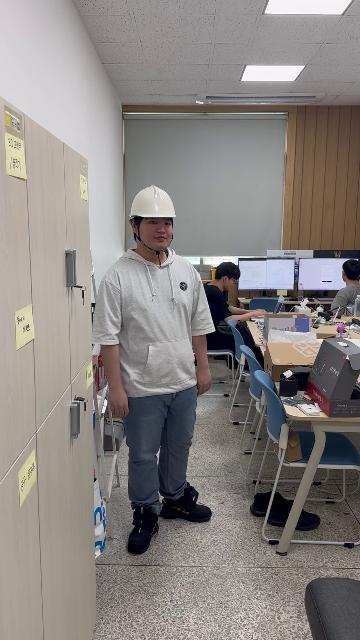helmet_worn: (128, 184, 178, 219)
shoe_not_worn: (252, 489, 316, 521), (266, 501, 319, 530)
shoe_worn: (160, 482, 210, 522), (127, 506, 160, 555)
vest_not_worn: (103, 254, 206, 397)
